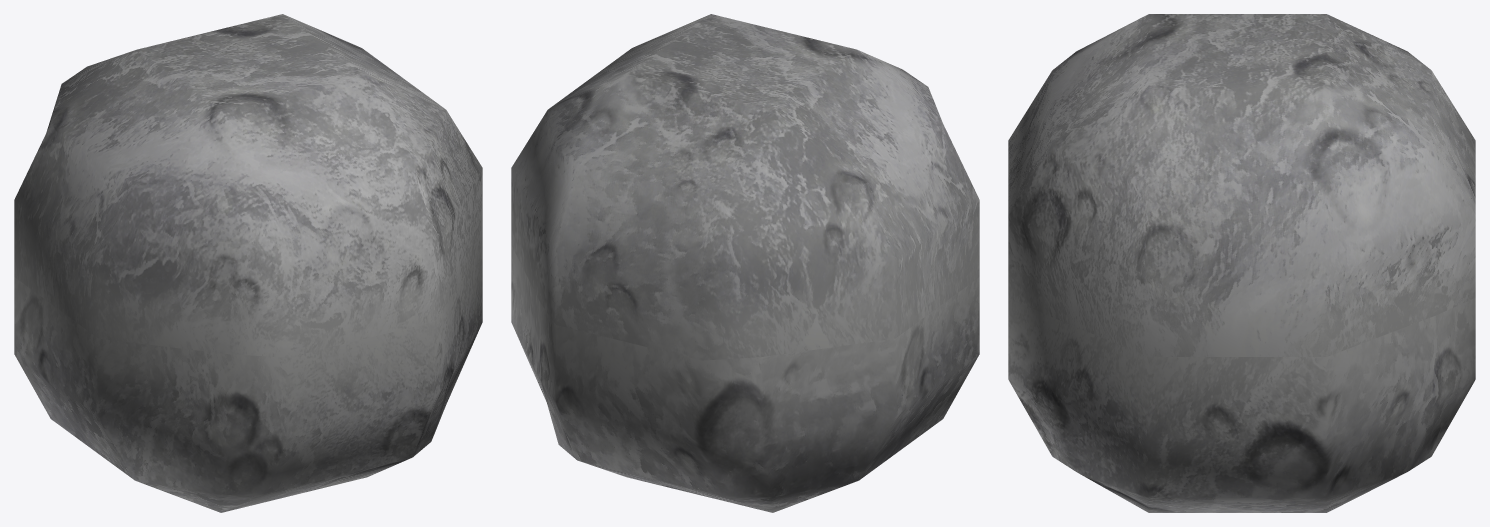
Rendered from testrock.fbx.
3 renders of one model, left to right at view 1: azimuth 30°, elevation 25°; view 2: azimuth 150°, elevation 25°; view 3: azimuth 270°, elevation 25°, orthographic. The views are drawn at different scales.
Parts seen in each view (by area): view 1: pCube1; view 2: pCube1; view 3: pCube1.
Boxes of the visible parts, <box> form: pCube1: <box>14,14,482,512</box>; pCube1: <box>511,14,979,512</box>; pCube1: <box>1008,14,1475,512</box>.
Bounding box in the file's own units: 158 × 158 × 158.
1 material, 1 textured.
